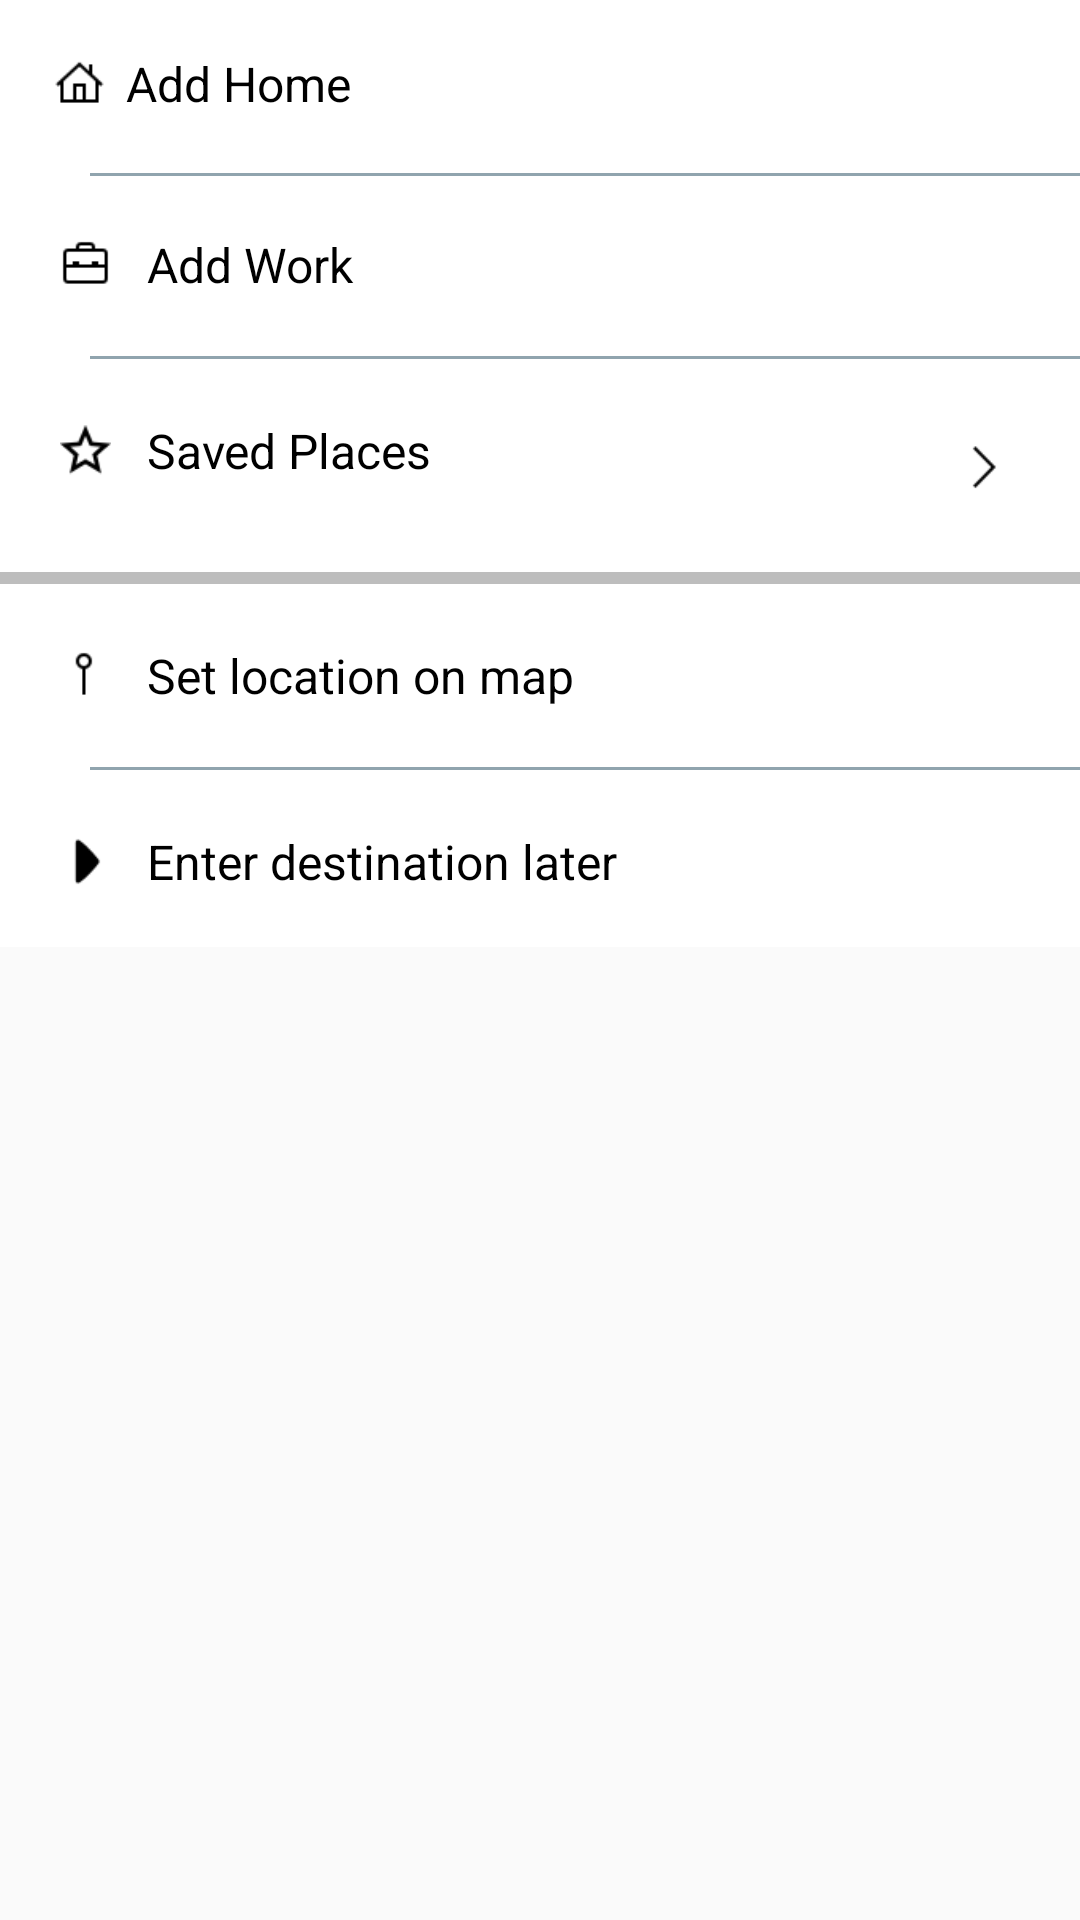

Point at icon controls on the screen. Image size 1080 × 1920, points as (x=x, y=y).
fav places: (x=85, y=449)
